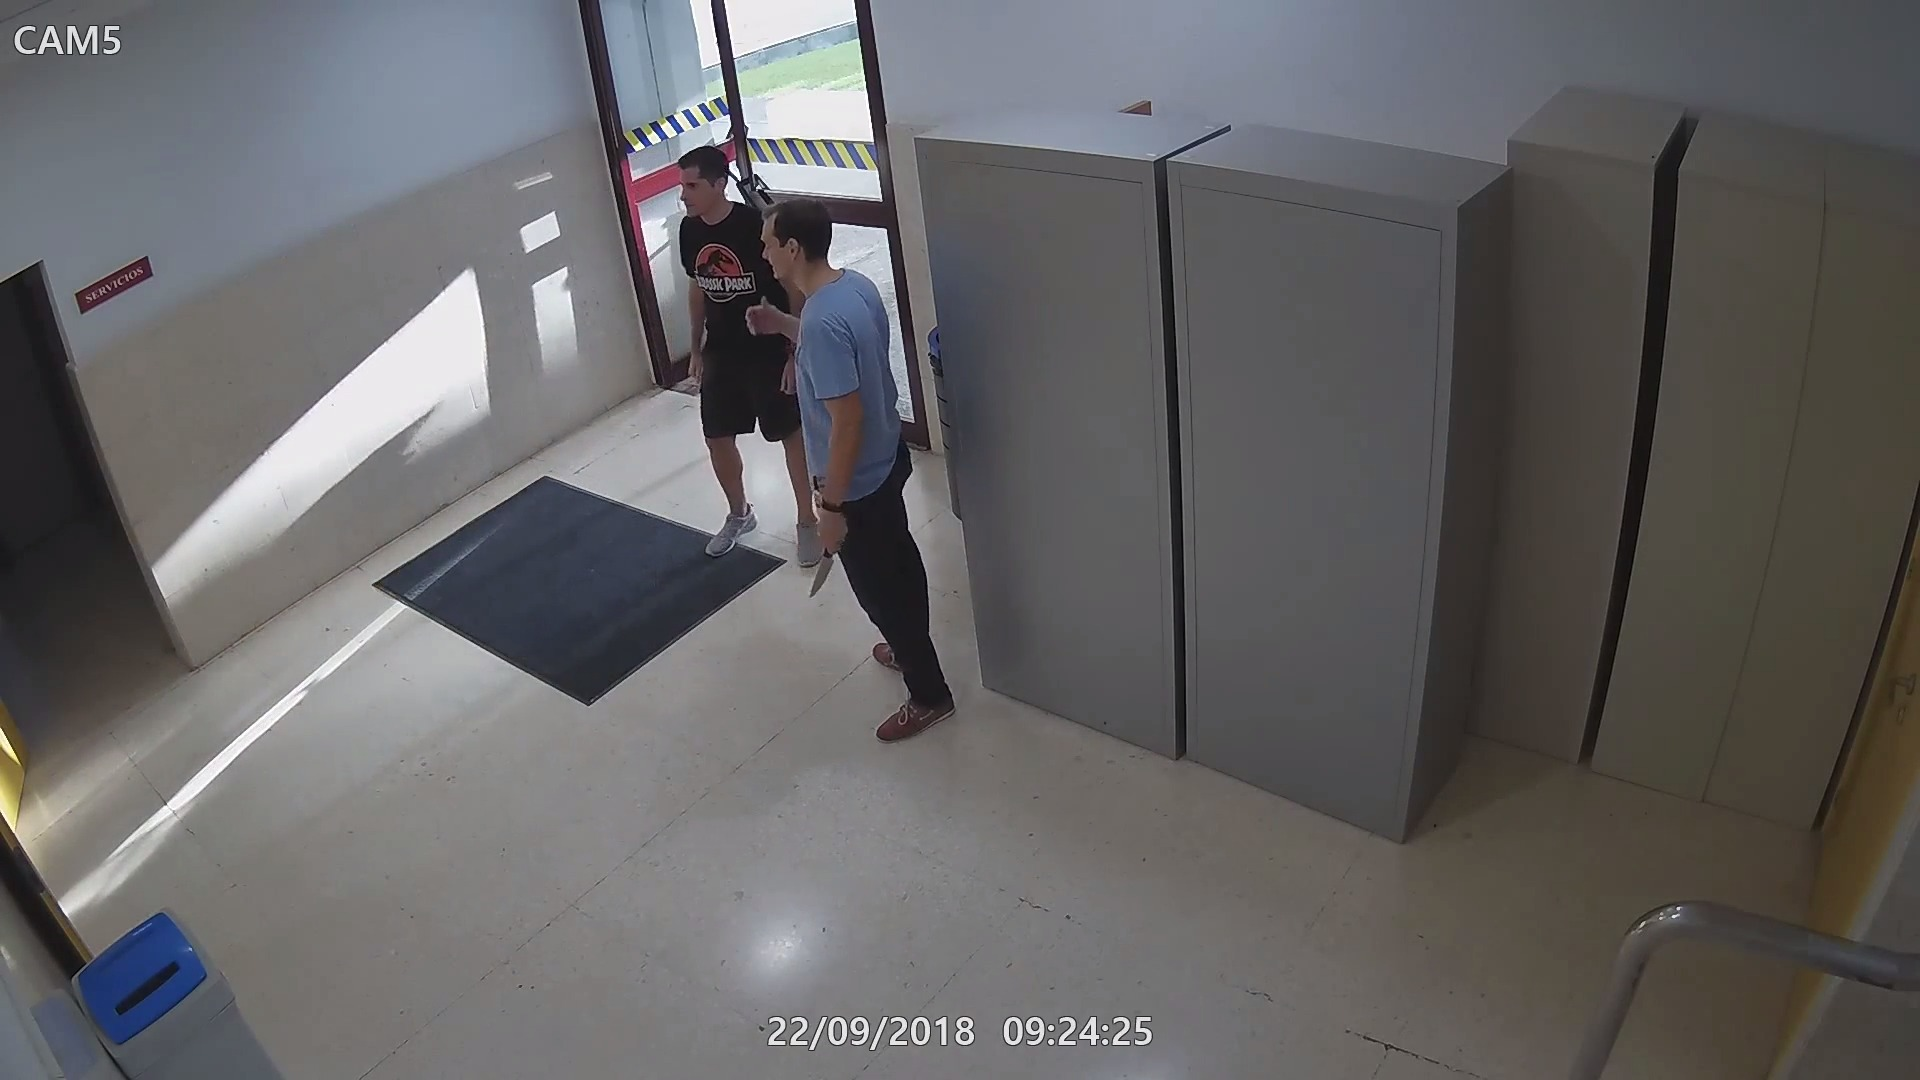Knife: (806, 498, 851, 597)
